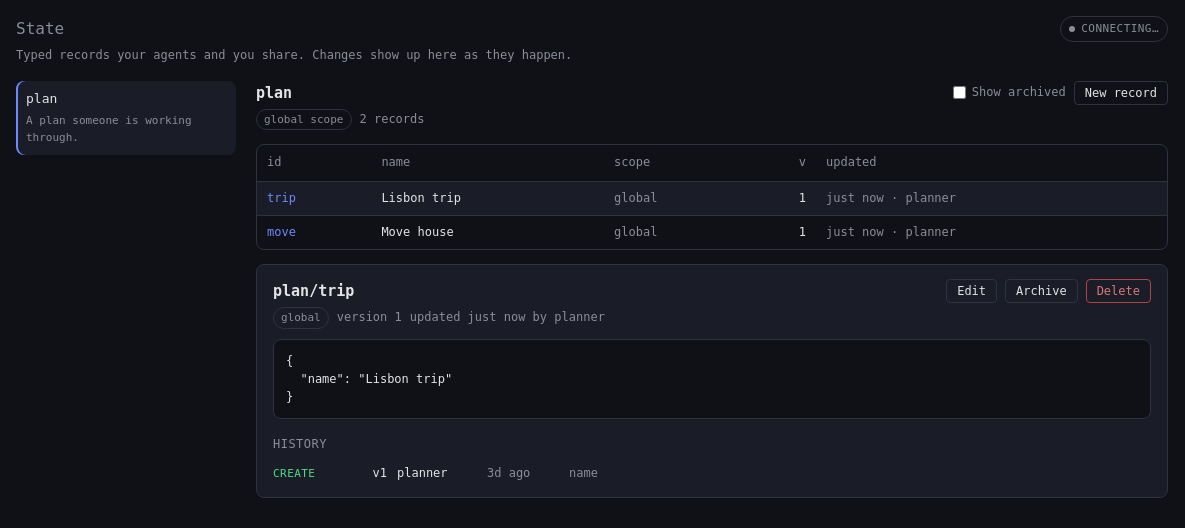
State page › archives an opened record with a reason, keeps it open as archived, and restores it
Expected: the button "Edit" is shown, top-left (946, 279), bottom-right (997, 303)
Click the button "Archive" at (1041, 291), box top-left (1005, 279), bottom-right (1078, 303)
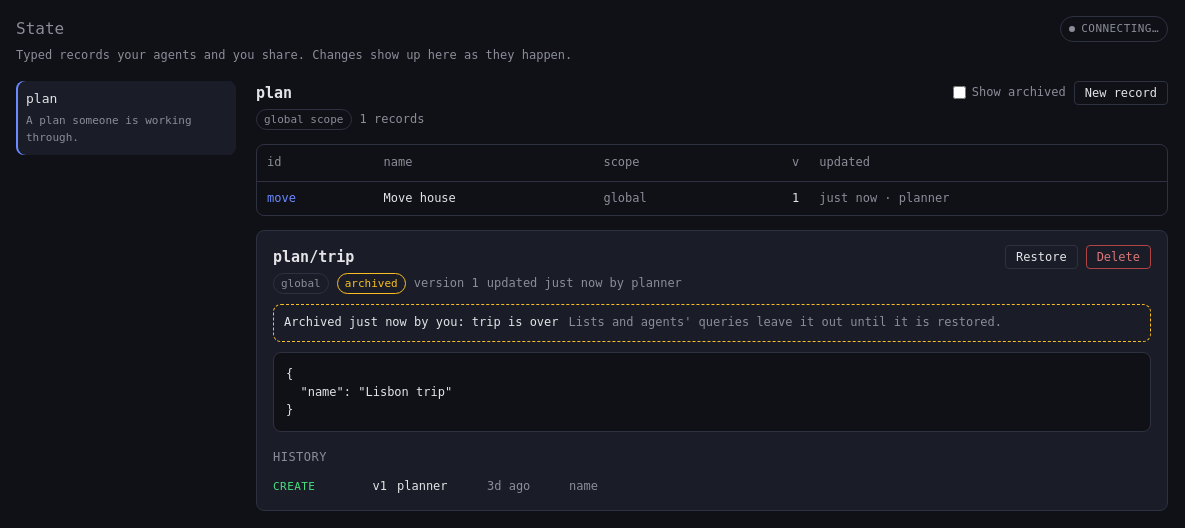
Expected: the element with class "state-archived-note" shows "Archived just now by you: trip is over", top-left (284, 315), bottom-right (558, 329)
Click the button "Restore" at (1041, 257), box top-left (1005, 245), bottom-right (1078, 269)
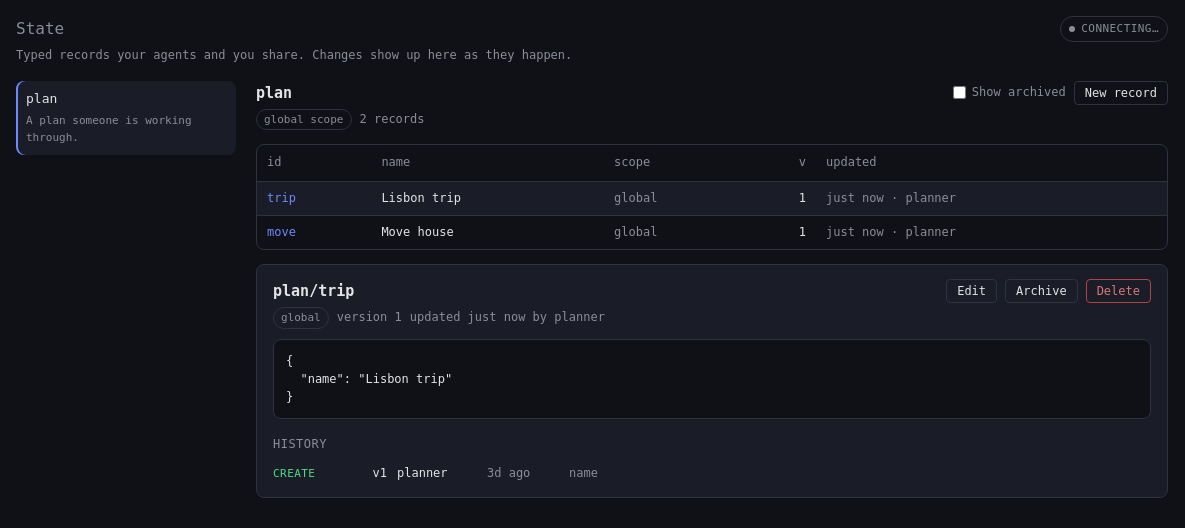
Expected: the element with class "state-archived-note" is gone
